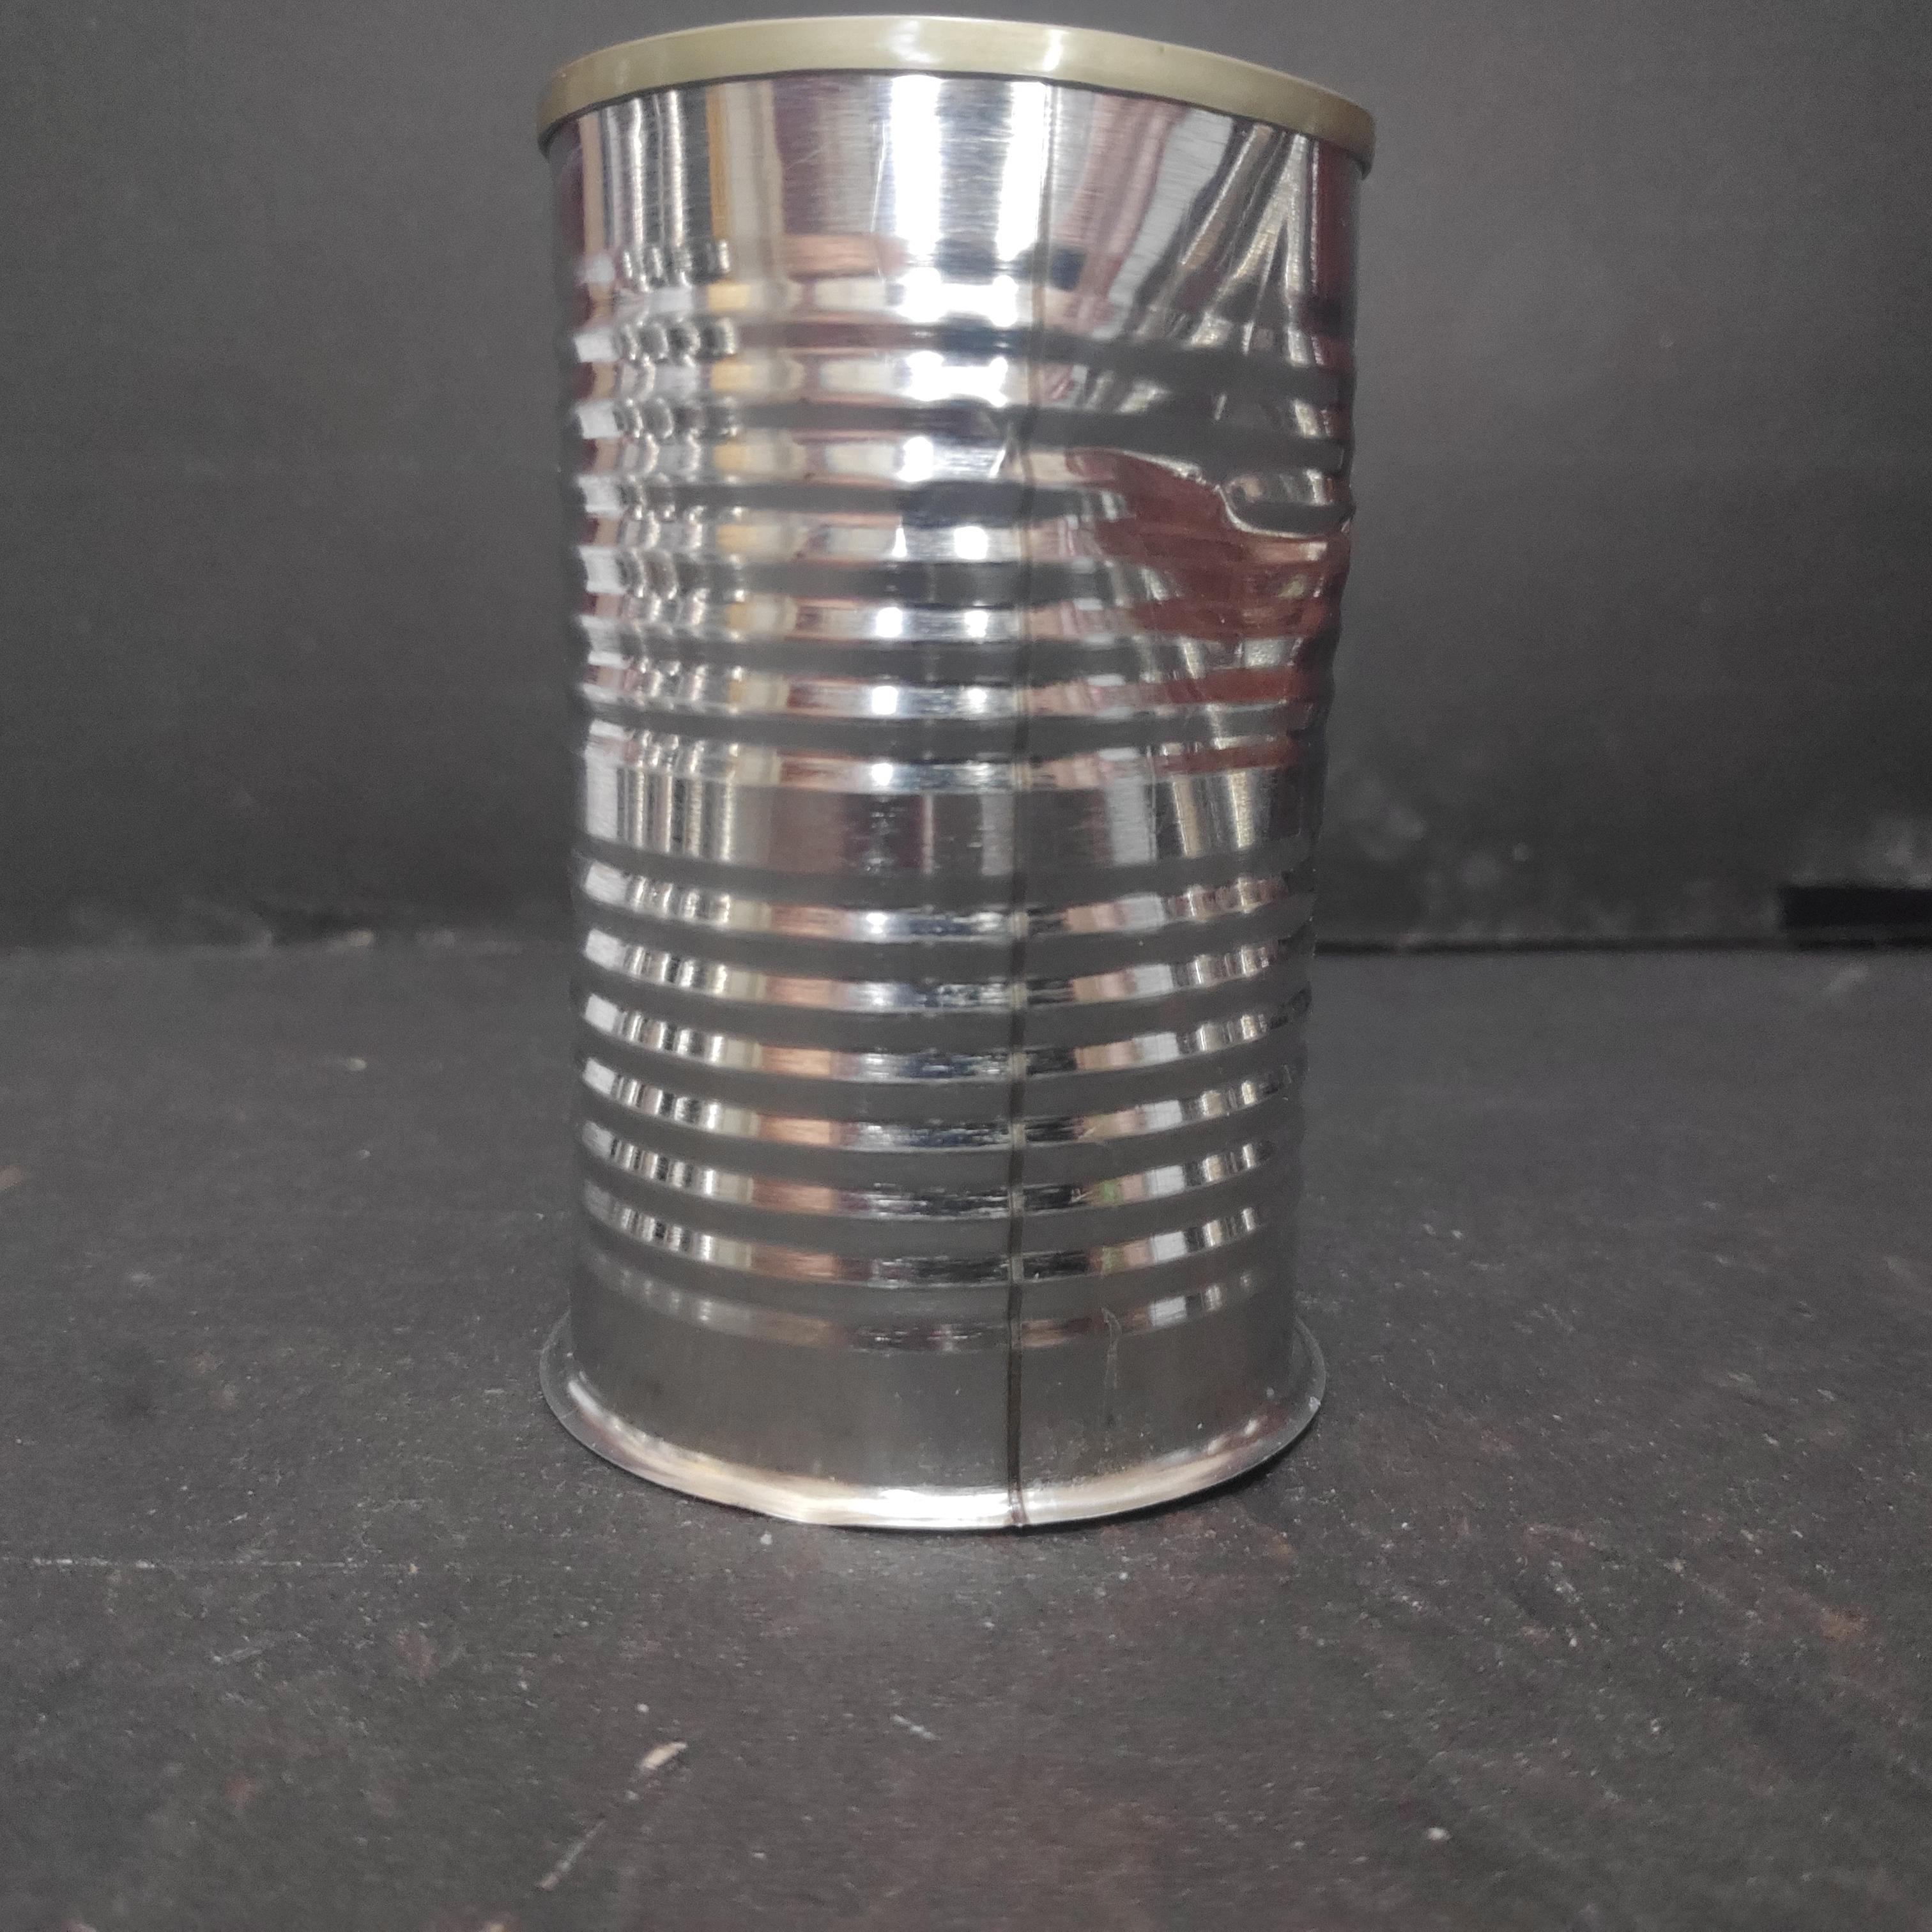Minor Defect: (529, 16, 1384, 1548)
